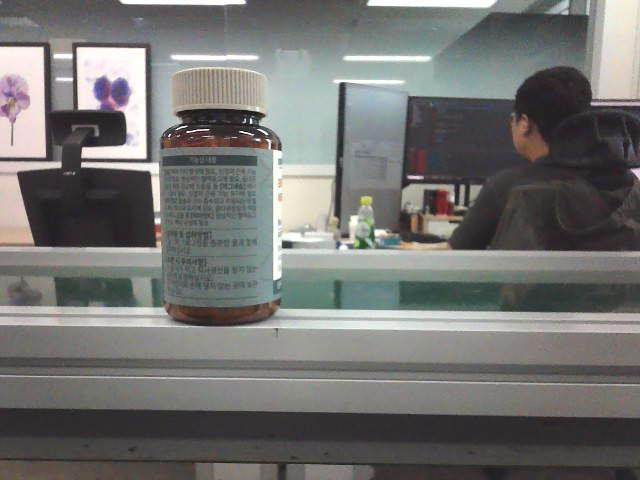labeled: (157, 66, 290, 330)
